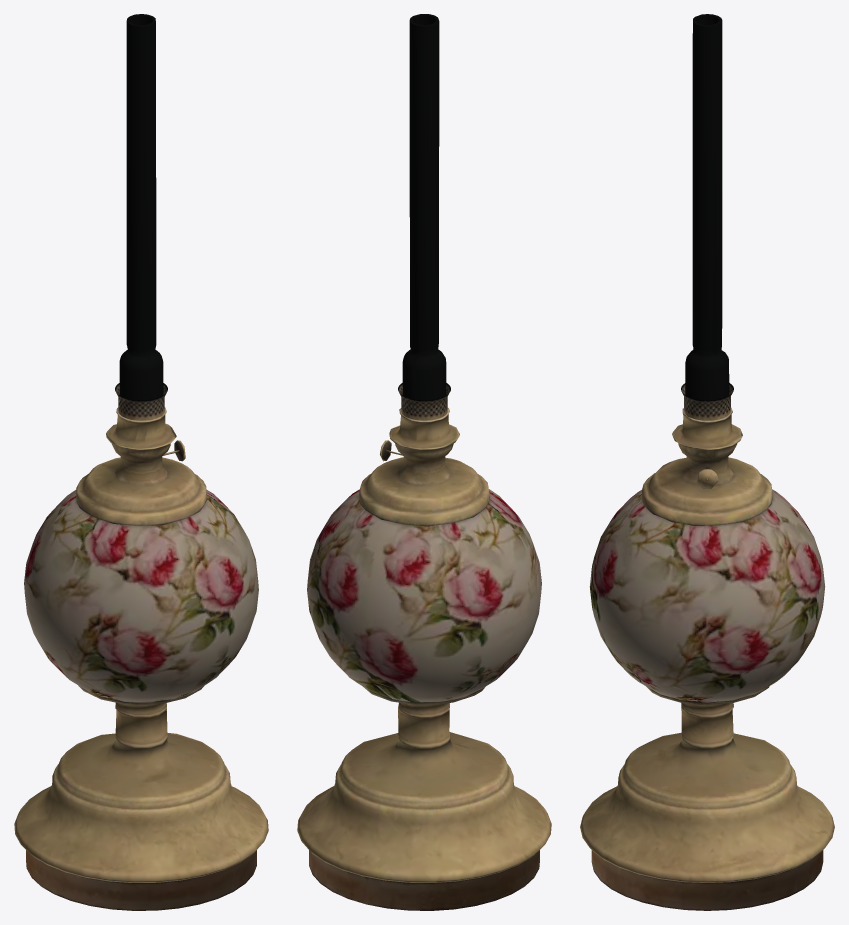
Rendered from oil_lamp.glb.
3 renders of one model, left to right at view 1: azimuth 30°, elevation 25°; view 2: azimuth 150°, elevation 25°; view 3: azimuth 270°, elevation 25°, orthographic.
Visible parts, largest first — view 1: vintage_oil_lamp, vintage_oil_lamp_glass; view 2: vintage_oil_lamp, vintage_oil_lamp_glass; view 3: vintage_oil_lamp, vintage_oil_lamp_glass.
Part boxes in pixels (x1=…): vintage_oil_lamp: x1=14, y1=407, x2=268, y2=910; vintage_oil_lamp_glass: x1=115, y1=14, x2=167, y2=420; vintage_oil_lamp: x1=297, y1=407, x2=551, y2=910; vintage_oil_lamp_glass: x1=398, y1=14, x2=450, y2=420; vintage_oil_lamp: x1=580, y1=407, x2=834, y2=910; vintage_oil_lamp_glass: x1=681, y1=14, x2=733, y2=420.
Size of the model in its own units: 0.22 by 0.8016 by 0.22.
Materials: 3 (3 with a texture image).
